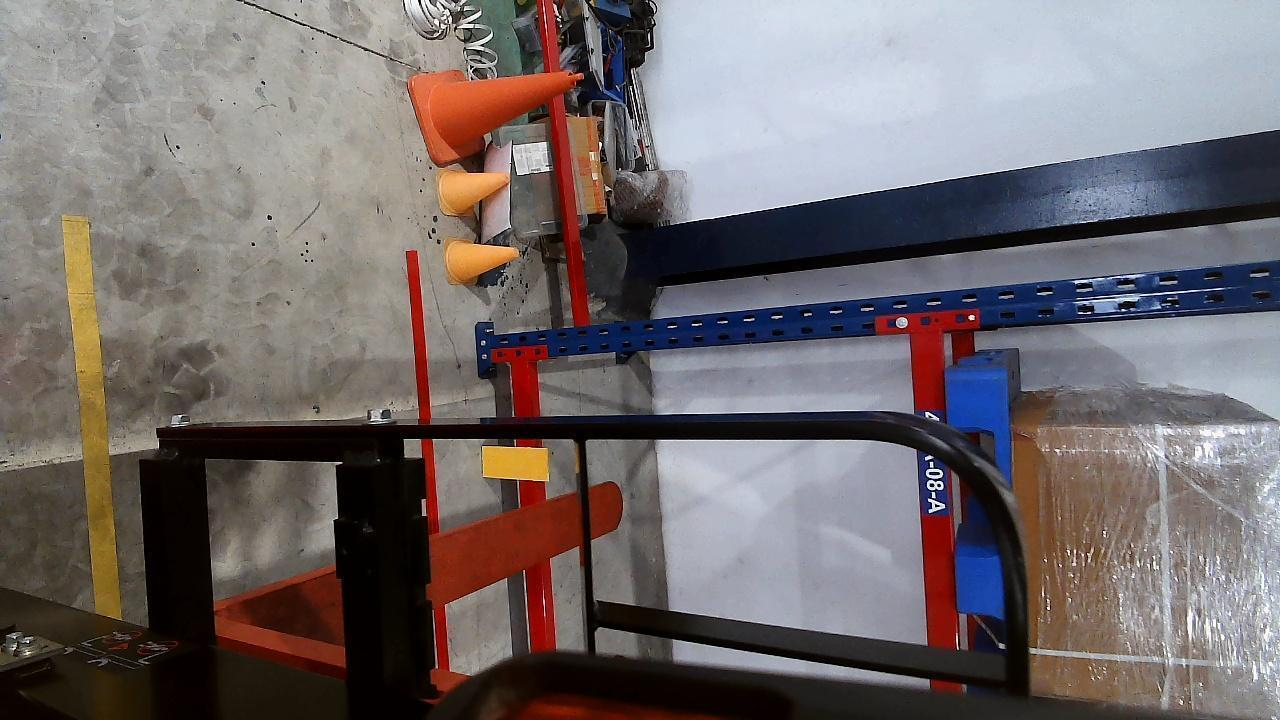red_line: (406, 249, 450, 662)
yellow_line: (59, 215, 120, 621)
